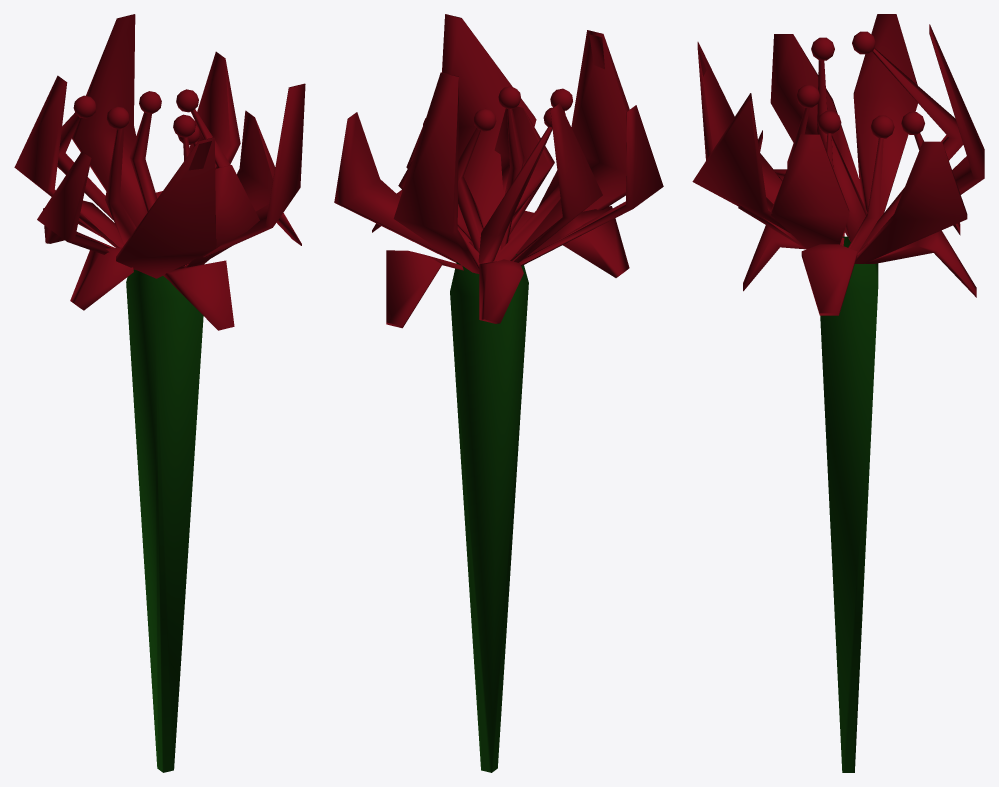
File: örümcek zambağı.fbx
The picture shows the model from 3 angles, left to right: view 1: azimuth 30°, elevation 25°; view 2: azimuth 150°, elevation 25°; view 3: azimuth 270°, elevation 25°; orthographic projection. The views are drawn at different scales.
Visible parts, largest first — view 1: Cube.002; view 2: Cube.002; view 3: Cube.002.
Part boxes in pixels (x1=…): Cube.002: x1=14, y1=14, x2=305, y2=772; Cube.002: x1=334, y1=14, x2=663, y2=772; Cube.002: x1=692, y1=14, x2=984, y2=772.
Bounding box in the file's own units: 176 × 471 × 168.
